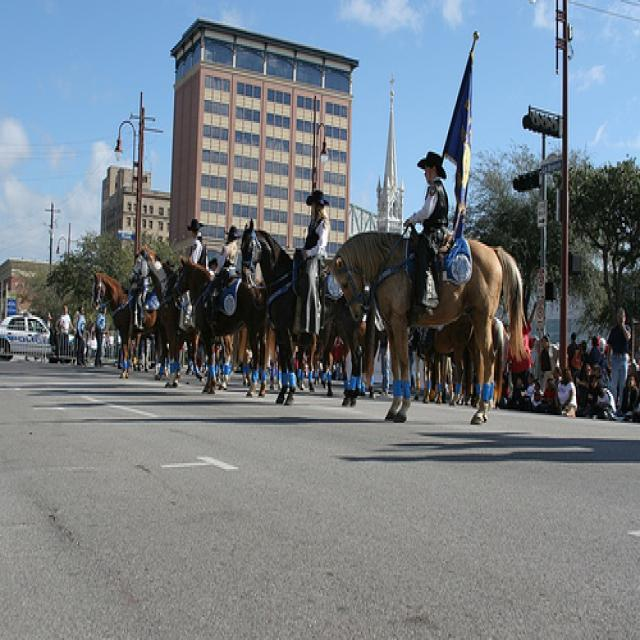Vehicle: (0, 312, 75, 361)
